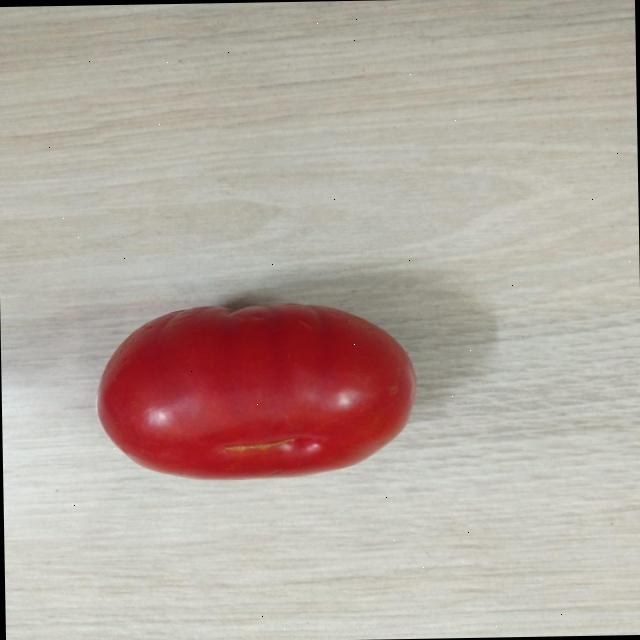Tomato: (88, 294, 421, 484)
